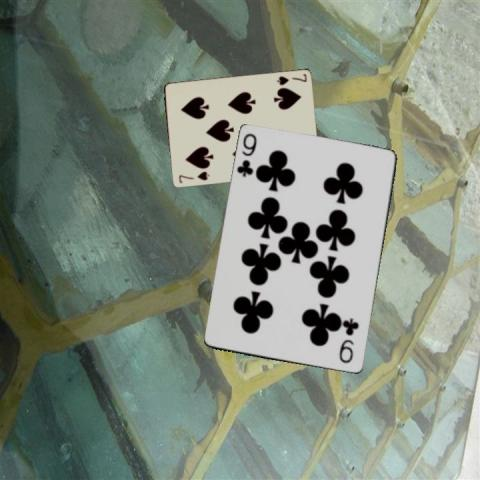7s: (175, 168, 211, 184), (273, 71, 308, 87)
9c: (234, 131, 259, 178), (338, 316, 361, 366)
